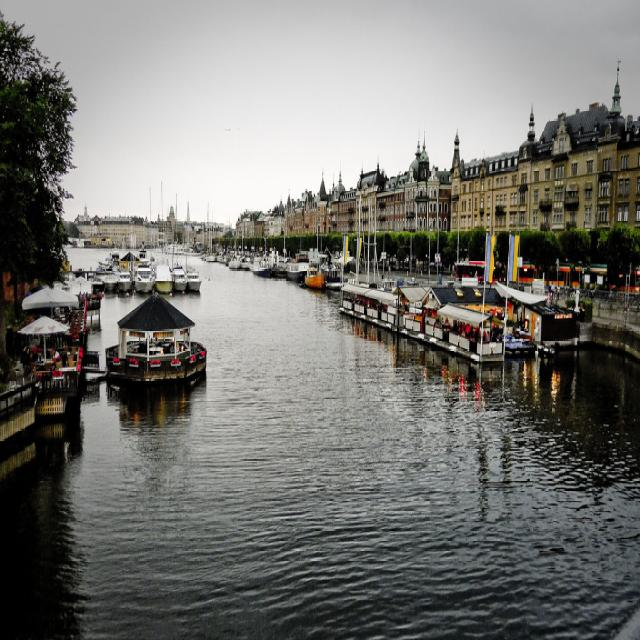Boat: (98, 282, 205, 378), (160, 186, 269, 272), (154, 264, 178, 290), (101, 253, 116, 292), (136, 262, 154, 294), (118, 266, 136, 294), (304, 268, 326, 290), (176, 267, 191, 295), (190, 264, 200, 294), (378, 271, 394, 289), (253, 260, 269, 275)
